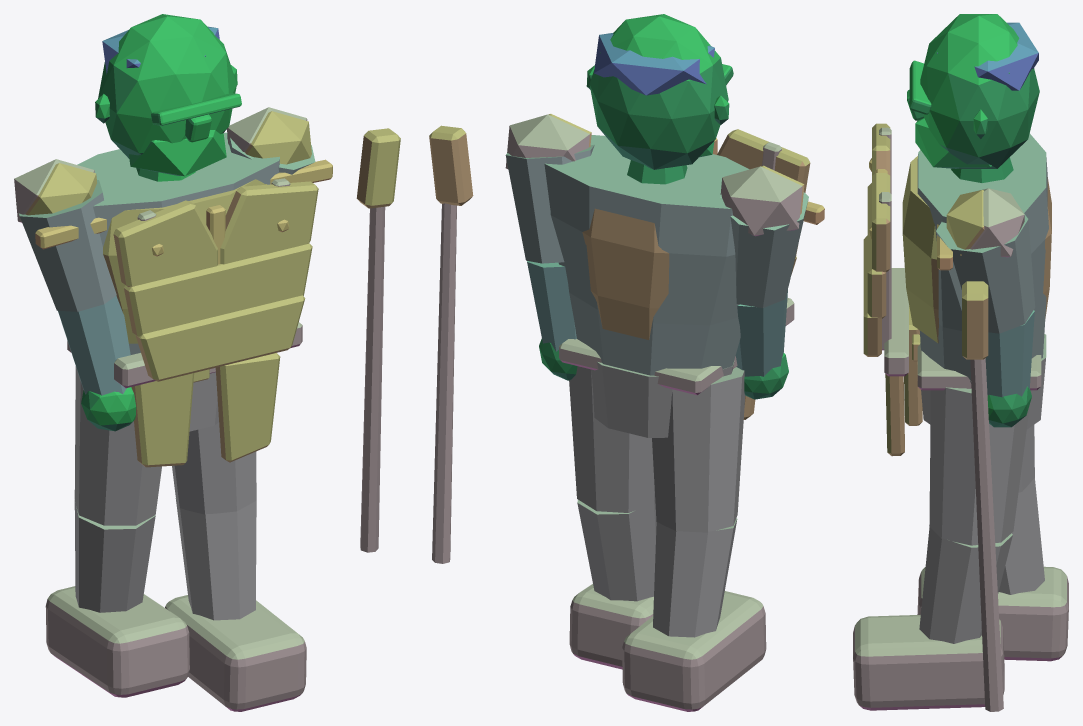
File: npc_guard_down_r_v01.glb
3 views of the same model, side by side, from view 1: azimuth 30°, elevation 25°; view 2: azimuth 150°, elevation 25°; view 3: azimuth 270°, elevation 25° (orthographic).
Parts seen in each view (by area): view 1: GEO_npc_guard_down_r_v01; view 2: GEO_npc_guard_down_r_v01; view 3: GEO_npc_guard_down_r_v01.
Part boxes in pixels (bbox=[...]): GEO_npc_guard_down_r_v01: bbox=[14, 14, 400, 711]; GEO_npc_guard_down_r_v01: bbox=[429, 14, 824, 711]; GEO_npc_guard_down_r_v01: bbox=[853, 14, 1068, 711].
Bounding box in the file's own units: 1.22 × 2.06 × 0.6107.
